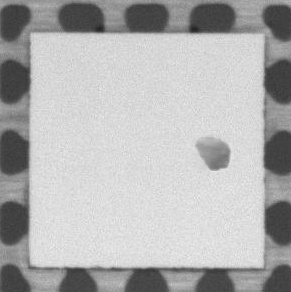DIE_INK: (192, 134, 230, 169)
